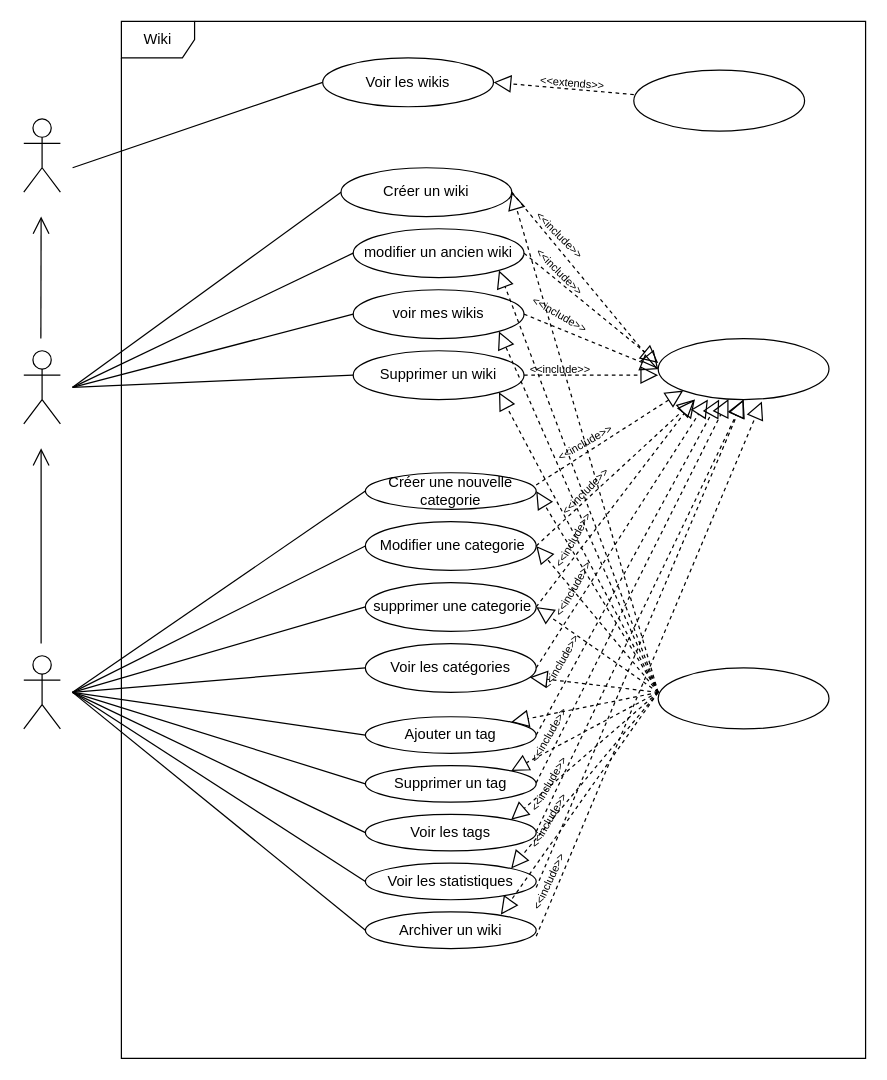
This 887x1080 diagram has some shape labels left out. The shapes that lost their labels are listed below. From the top down, each one's centre as x and y in pixels, then its label:
At point (719, 100): "Voir les détails d'un wiki".
At point (41, 155): "visitor".
At point (41, 387): "Author".
At point (743, 368): "Log in".
At point (41, 692): "Admin".
At point (743, 698): "Log out".
